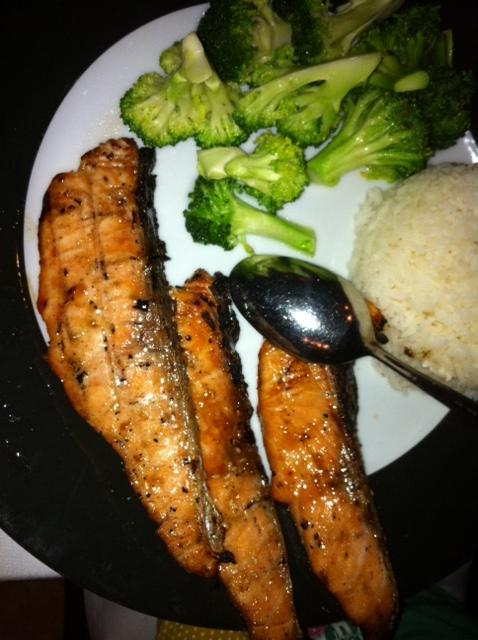broccoli: (234, 52, 382, 150), (304, 82, 434, 186), (183, 174, 316, 257), (344, 3, 442, 92), (196, 2, 292, 84), (224, 130, 309, 217), (288, 1, 393, 66), (410, 64, 476, 150), (194, 71, 250, 150)
